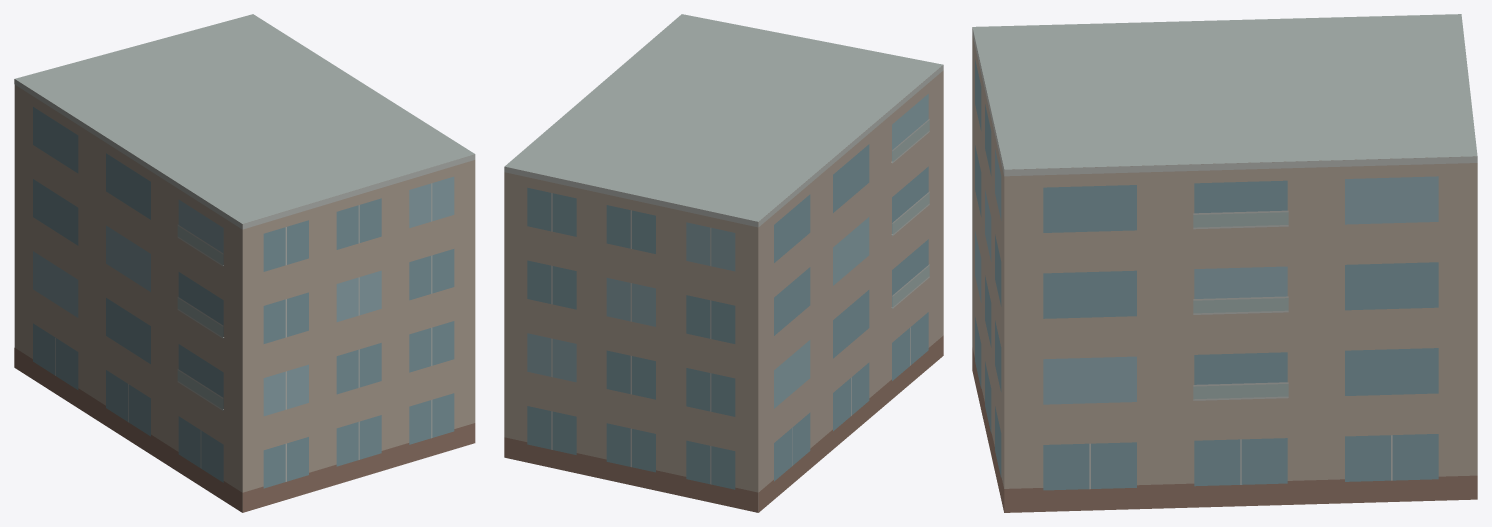
The model's file is survey-upis-32870376.glb.
3 views of the same model, side by side, from view 1: azimuth 30°, elevation 25°; view 2: azimuth 150°, elevation 25°; view 3: azimuth 270°, elevation 25° (orthographic). The views are drawn at different scales.
Visible parts, largest first — view 1: survey-upis-32870376.tmp; view 2: survey-upis-32870376.tmp; view 3: survey-upis-32870376.tmp.
Boxes of the visible parts, x1=… form: survey-upis-32870376.tmp: x1=14, y1=14, x2=475, y2=512; survey-upis-32870376.tmp: x1=504, y1=14, x2=943, y2=512; survey-upis-32870376.tmp: x1=972, y1=14, x2=1477, y2=512.
Size of the model in its own units: 12.32 by 12.65 by 16.89.
